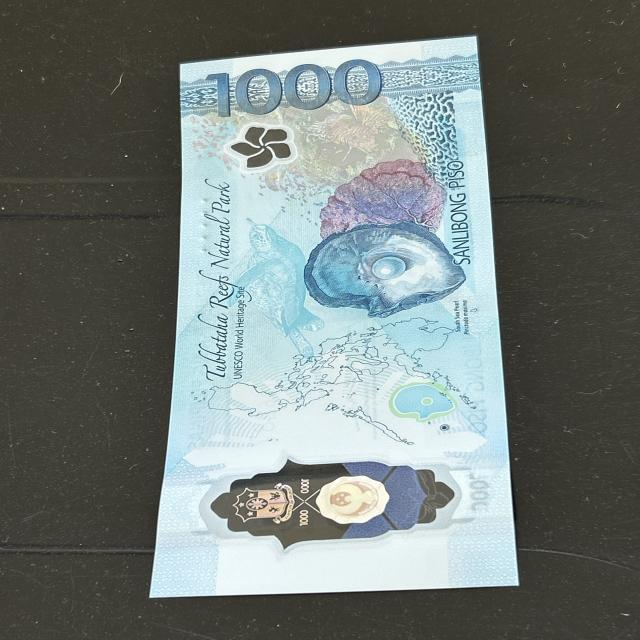clear_window: (193, 454, 460, 554)
sampaguita: (229, 129, 302, 176)
value: (208, 62, 387, 110)
